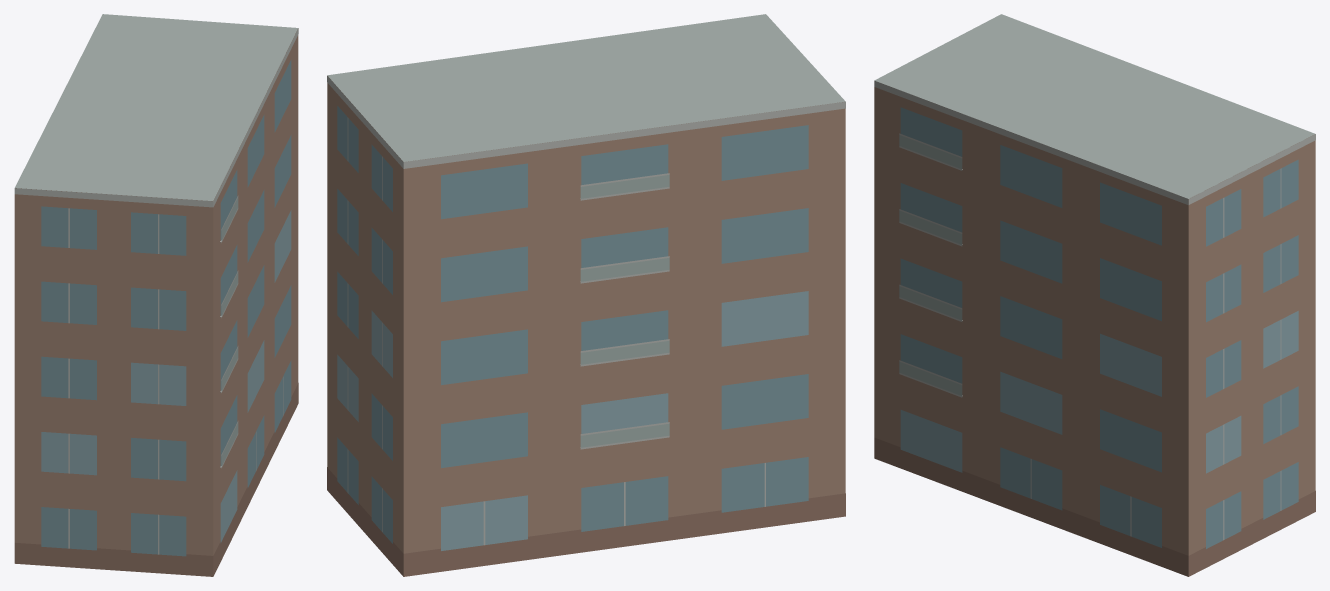
The model's file is survey-upis-32922942.glb.
3 views of the same model, side by side, from view 1: azimuth 30°, elevation 25°; view 2: azimuth 150°, elevation 25°; view 3: azimuth 270°, elevation 25° (orthographic). The views are drawn at different scales.
Parts seen in each view (by area): view 1: survey-upis-32922942.tmp; view 2: survey-upis-32922942.tmp; view 3: survey-upis-32922942.tmp.
Boxes of the visible parts, <box> form: survey-upis-32922942.tmp: <box>14,14,298,576</box>; survey-upis-32922942.tmp: <box>327,14,845,576</box>; survey-upis-32922942.tmp: <box>874,14,1315,576</box>.
Bounding box in the file's own units: 15.33 × 14.6 × 15.46.
